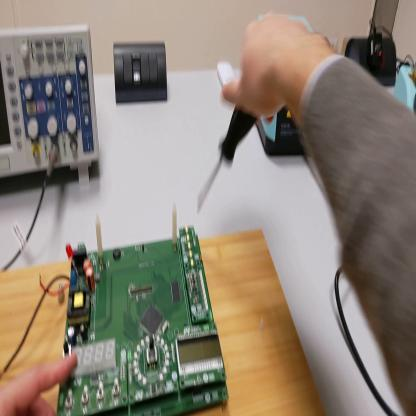hand: (219, 11, 335, 122), (2, 354, 80, 415)
low voltage board: (1, 198, 230, 416)
oscilloscope: (2, 29, 102, 192)
screwdriver-: (197, 116, 255, 213)
socket: (344, 38, 398, 88)
welder base: (395, 66, 415, 111)
welder station: (257, 112, 307, 156)
working area: (1, 225, 327, 416)
